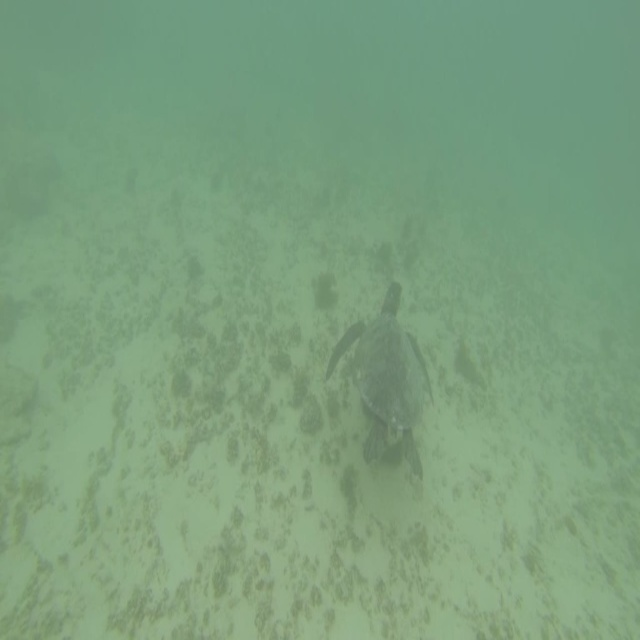Sea turtle: (318, 276, 439, 490)
